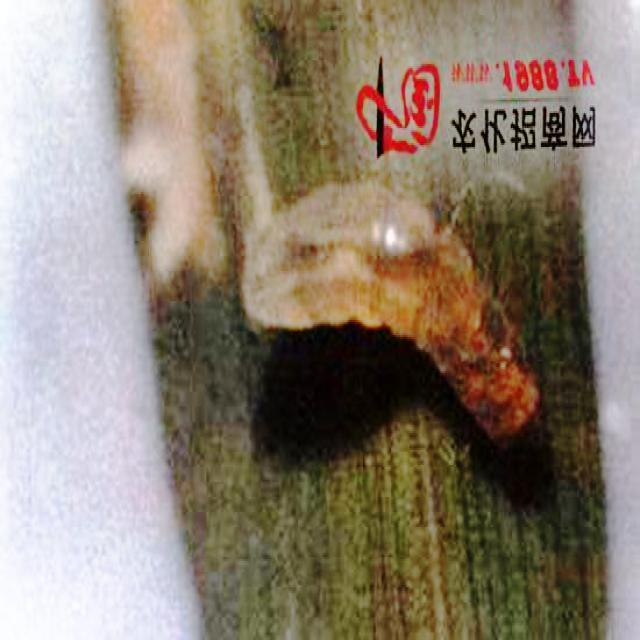whorl-maggot: (243, 184, 548, 445)
